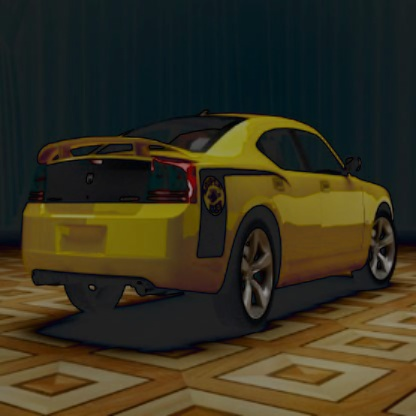Vehicle: (20, 103, 399, 331)
